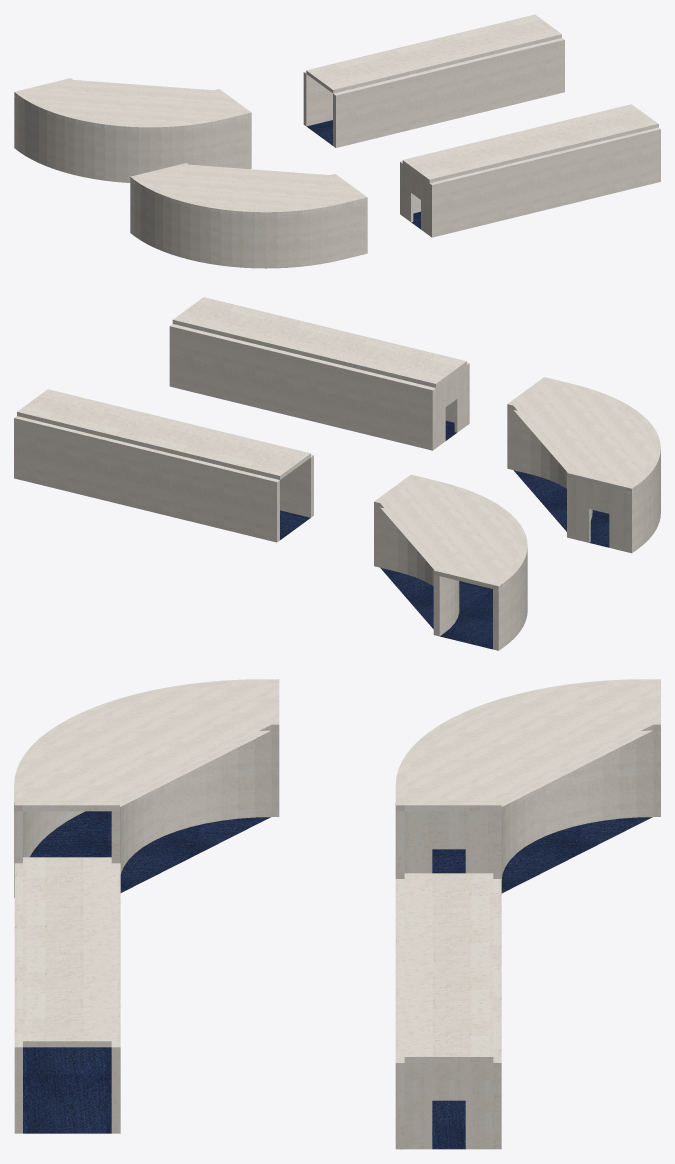
File: new_hallways 1.fbx
The picture shows the model from 3 angles, top to bottom: view 1: azimuth 30°, elevation 25°; view 2: azimuth 150°, elevation 25°; view 3: azimuth 270°, elevation 25°; orthographic projection. The views are drawn at different scales.
Visible parts, largest first — view 1: Cube.002, Cube.005, Cube.006, Cube.001; view 2: Cube.005, Cube.002, Cube.001, Cube.006; view 3: Cube.001, Cube.006, Cube.002, Cube.005.
Part boxes in pixels (left/top/right/bottom): Cube.002: left=303, top=14, right=564, bottom=147; Cube.005: left=400, top=104, right=660, bottom=237; Cube.006: left=130, top=163, right=367, bottom=268; Cube.001: left=14, top=78, right=251, bottom=182; Cube.005: left=169, top=297, right=469, bottom=450; Cube.002: left=14, top=389, right=313, bottom=542; Cube.001: left=374, top=474, right=527, bottom=650; Cube.006: left=507, top=377, right=660, bottom=553; Cube.001: left=395, top=679, right=660, bottom=893; Cube.006: left=14, top=679, right=279, bottom=897; Cube.002: left=395, top=873, right=501, bottom=1149; Cube.005: left=14, top=857, right=120, bottom=1133.
Bounding box in the file's own units: 40.19 × 4.6 × 29.09.
2 materials, 2 textured.
